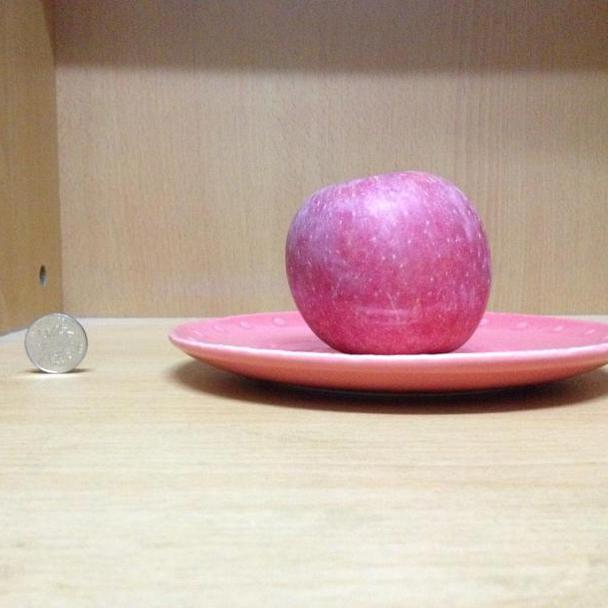apple: (282, 170, 498, 353)
